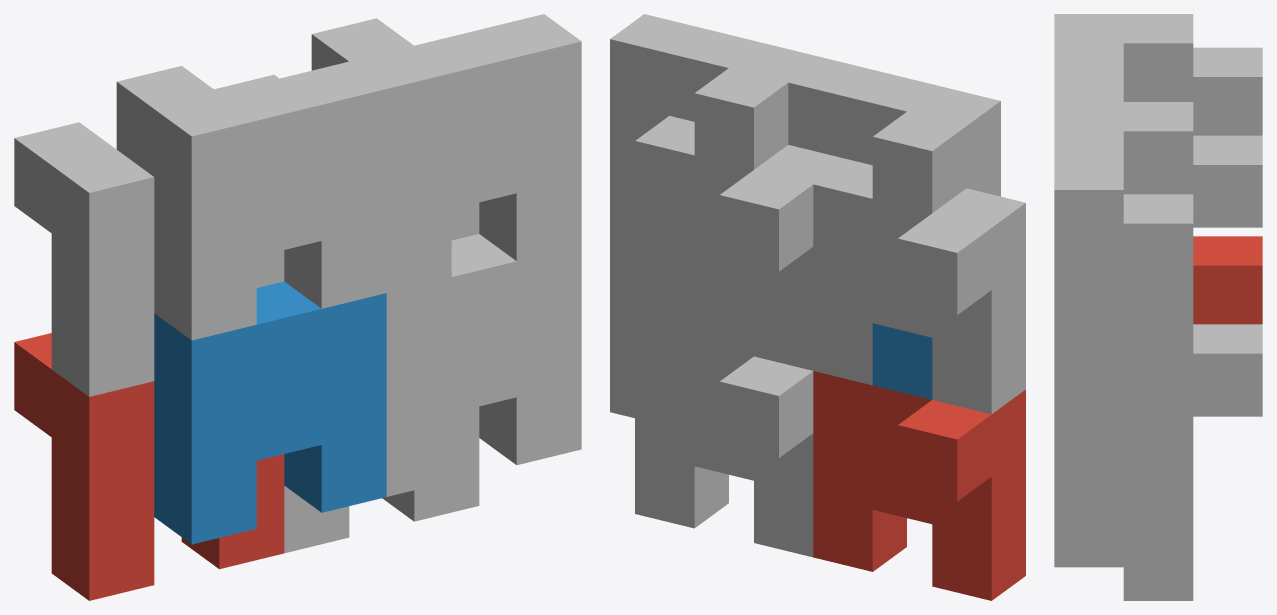
Rendered from tiling.obj.
The picture shows the model from 3 angles, left to right: view 1: azimuth 30°, elevation 25°; view 2: azimuth 150°, elevation 25°; view 3: azimuth 270°, elevation 25°; orthographic projection. The views are drawn at different scales.
Parts seen in each view (by area): view 1: copy_1_domain_4, copy_1_domain_8, copy_1_domain_2, copy_1_domain_6, copy_1_domain_3, copy_1_domain_1, copy_1_domain_5, copy_1_domain_7; view 2: copy_1_domain_3, copy_1_domain_1, copy_1_domain_7, copy_1_domain_5, copy_1_domain_8, copy_1_domain_4, copy_1_domain_6, copy_1_domain_2; view 3: copy_1_domain_8, copy_1_domain_7, copy_1_domain_5, copy_1_domain_6, copy_1_domain_4, copy_1_domain_1, copy_1_domain_3.
Part boxes in pixels (x1,y1,x2,y2): copy_1_domain_4: (116, 61, 386, 340); copy_1_domain_8: (311, 14, 581, 292); copy_1_domain_2: (154, 281, 386, 544); copy_1_domain_6: (386, 234, 581, 496); copy_1_domain_3: (14, 122, 284, 396); copy_1_domain_1: (14, 333, 284, 600); copy_1_domain_5: (284, 406, 479, 553); copy_1_domain_7: (214, 74, 479, 240); copy_1_domain_3: (813, 159, 1025, 414); copy_1_domain_1: (813, 371, 1025, 600); copy_1_domain_7: (635, 116, 847, 370); copy_1_domain_5: (635, 327, 813, 557); copy_1_domain_8: (610, 14, 822, 231); copy_1_domain_4: (788, 57, 1000, 213); copy_1_domain_6: (610, 225, 753, 418); copy_1_domain_2: (872, 323, 932, 399); copy_1_domain_8: (1054, 102, 1193, 378); copy_1_domain_7: (1123, 135, 1262, 412); copy_1_domain_5: (1123, 324, 1262, 600); copy_1_domain_6: (1054, 378, 1123, 567); copy_1_domain_4: (1054, 14, 1193, 101); copy_1_domain_1: (1193, 236, 1262, 324); copy_1_domain_3: (1193, 47, 1262, 135).
Bounding box in the file's own units: 7 × 7 × 3.
